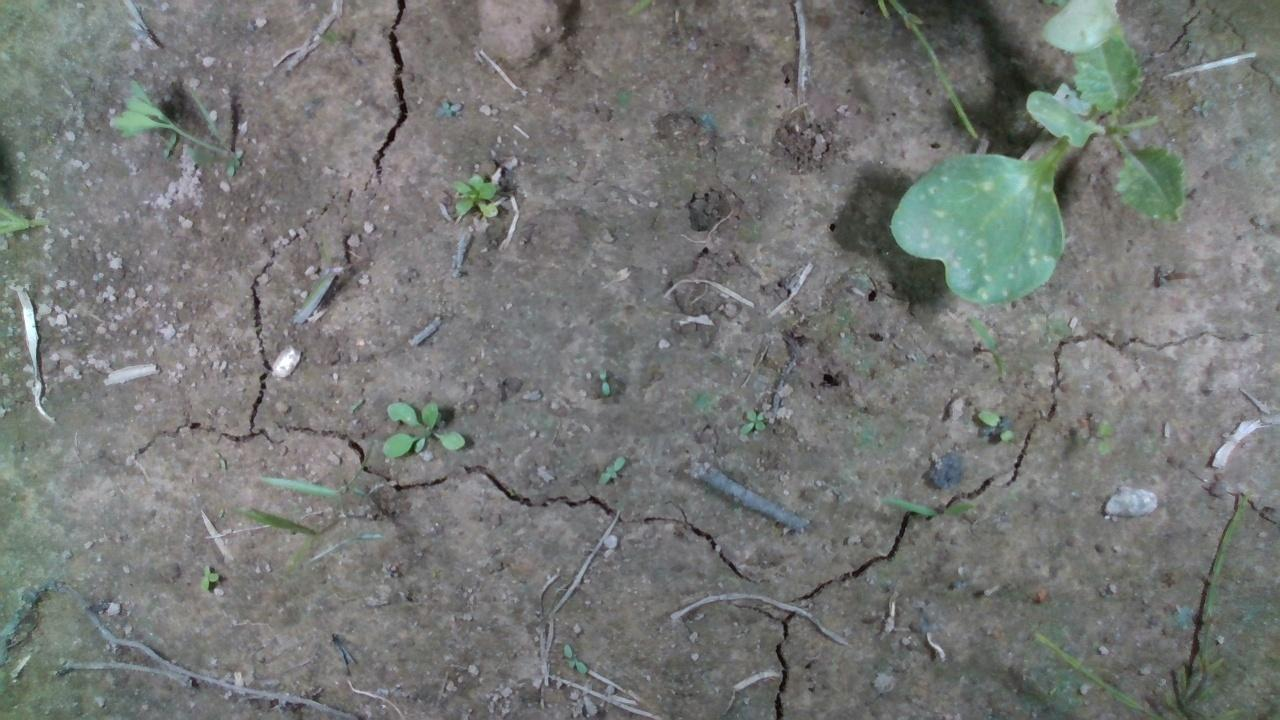weed: (974, 407, 1014, 442), (597, 454, 624, 485), (737, 406, 766, 434), (197, 560, 219, 592), (432, 97, 461, 118), (597, 369, 609, 396)
